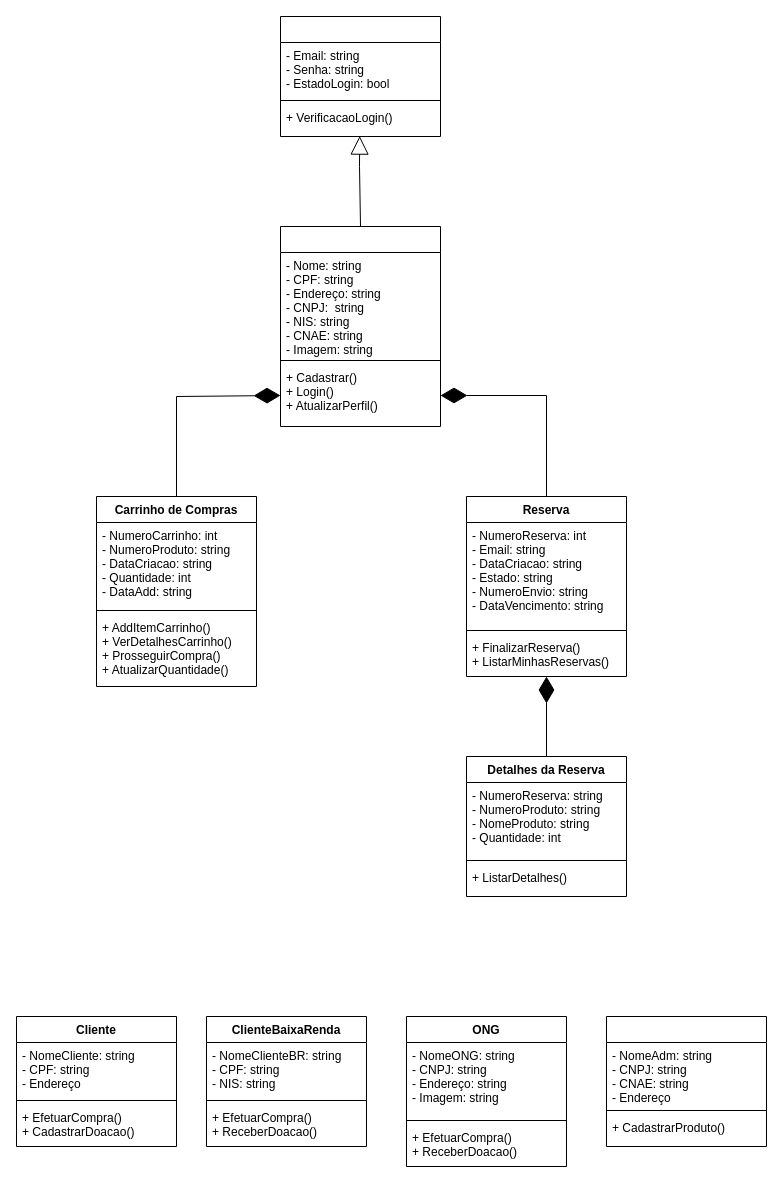
The diagram is 783 pixels wide and 1183 high, and some of its shapes have lost their labels. The box of each missing label's shape, as (x1, y1, x2, y2) in pixels:
Empresa: (606, 1016, 766, 1146)
Tipo de usuário: (280, 226, 440, 426)
Usuario: (280, 16, 440, 136)
